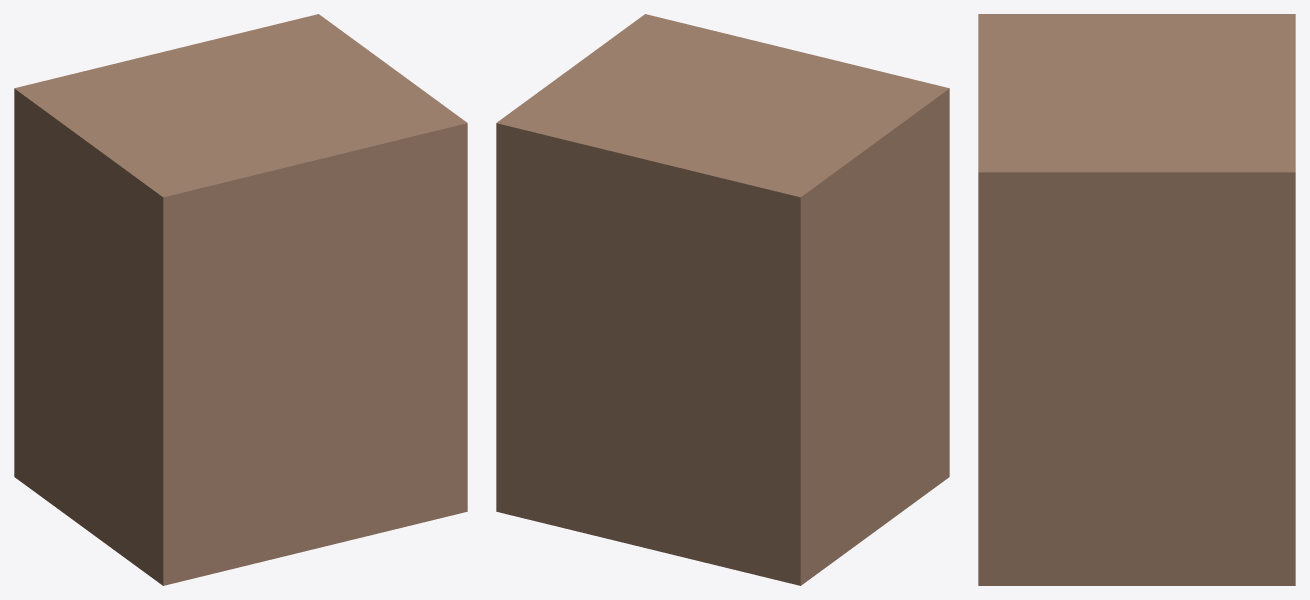
File: prop_pass_cairn_lod2.glb
The picture shows the model from 3 angles, left to right: view 1: azimuth 30°, elevation 25°; view 2: azimuth 150°, elevation 25°; view 3: azimuth 270°, elevation 25°; orthographic projection. The views are drawn at different scales.
Parts seen in each view (by area): view 1: prop_pass_cairn_lod2; view 2: prop_pass_cairn_lod2; view 3: prop_pass_cairn_lod2.
Boxes of the visible parts, box(x1,y1,x2,y2) form: prop_pass_cairn_lod2: box(14, 14, 467, 585); prop_pass_cairn_lod2: box(496, 14, 949, 585); prop_pass_cairn_lod2: box(978, 14, 1295, 585).
Size of the model in its own units: 3.15 by 3.84 by 2.67.
